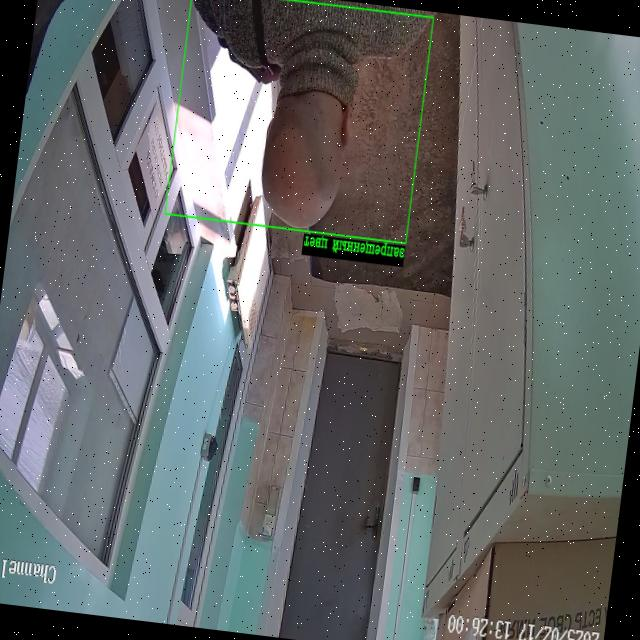Person: (194, 0, 425, 228)
